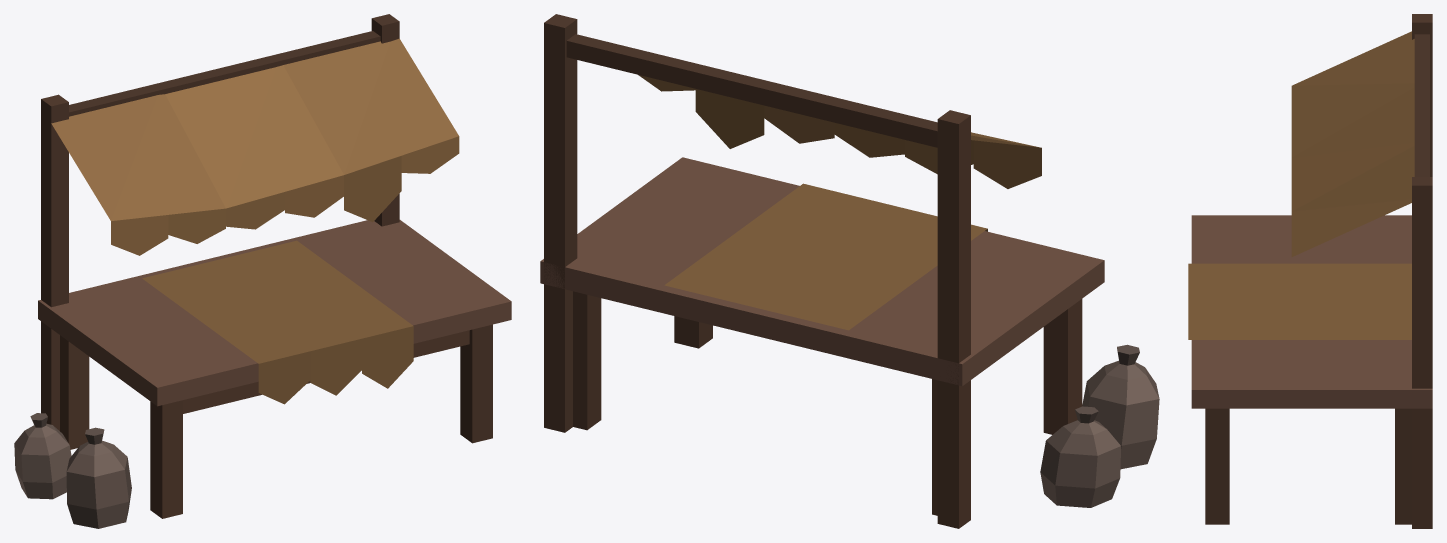
The model's file is stallOchre.glb.
3 views of the same model, side by side, from view 1: azimuth 30°, elevation 25°; view 2: azimuth 150°, elevation 25°; view 3: azimuth 270°, elevation 25° (orthographic). The views are drawn at different scales.
Visible parts, largest first — view 1: lit; view 2: lit; view 3: lit.
Part boxes in pixels (x1,y1,x2,y2): lit: (14, 14, 511, 528); lit: (540, 14, 1159, 528); lit: (1188, 14, 1432, 528).
Bounding box in the file's own units: 2.91 × 2.2 × 1.42.
